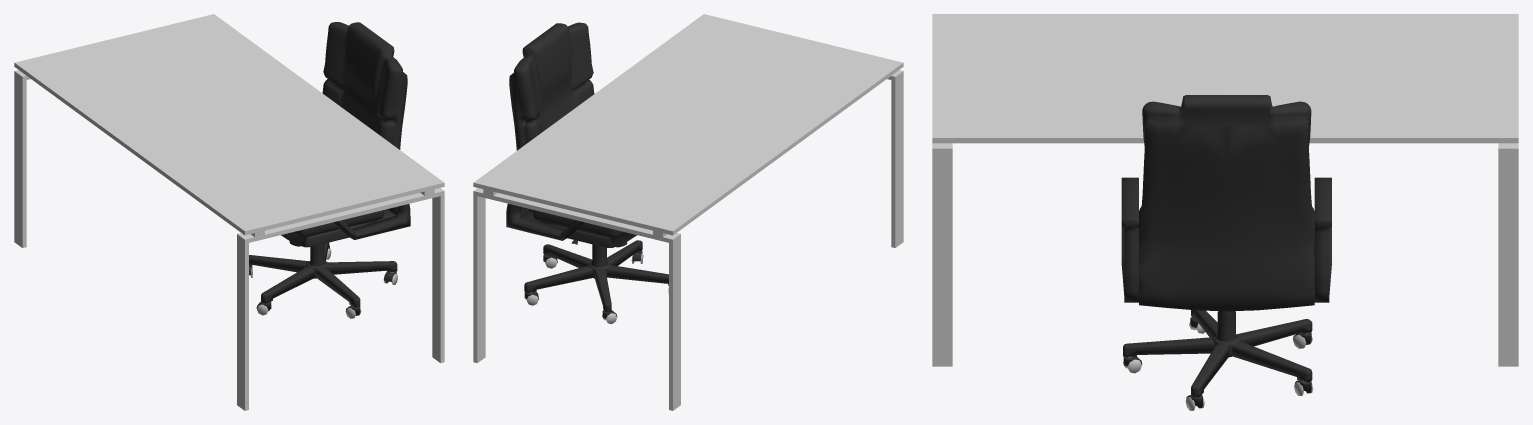
File: catedra.fbx
3 renders of one model, left to right at view 1: azimuth 30°, elevation 25°; view 2: azimuth 150°, elevation 25°; view 3: azimuth 270°, elevation 25°, orthographic. The views are drawn at different scales.
Parts seen in each view (by area): view 1: blat, picioare, ChairBack_LP, ChairSeat_LP4, pCube38, Leg_LP3, Leg_LP5, Leg_LP4, Leg_LP1, Underside_LP; view 2: blat, picioare, ChairBack_LP, ChairSeat_LP4, pCube37, Leg_LP2, Leg_LP5, Leg_LP3, Underside_LP, Leg_LP1, Leg_LP4; view 3: blat, ChairBack_LP, picioare, pCube37, pCube38, Leg_LP4, Leg_LP2, Leg_LP1, Leg_LP3, Underside_LP.
Part boxes in pixels (<box>): blat: <box>14,14,444,235</box>; picioare: <box>14,70,444,410</box>; ChairBack_LP: <box>322,22,407,214</box>; ChairSeat_LP4: <box>281,209,395,247</box>; pCube38: <box>333,204,410,239</box>; Leg_LP3: <box>327,261,397,274</box>; Leg_LP5: <box>261,267,314,303</box>; Leg_LP4: <box>316,267,360,307</box>; Leg_LP1: <box>249,255,308,272</box>; Underside_LP: <box>289,241,328,278</box>; blat: <box>473,14,903,235</box>; picioare: <box>473,70,903,410</box>; ChairBack_LP: <box>509,22,594,215</box>; ChairSeat_LP4: <box>521,209,636,247</box>; pCube37: <box>506,203,584,240</box>; Leg_LP2: <box>524,265,592,293</box>; Leg_LP5: <box>607,265,668,285</box>; Leg_LP3: <box>543,244,592,267</box>; Underside_LP: <box>571,240,627,278</box>; Leg_LP1: <box>594,269,611,312</box>; Leg_LP4: <box>607,240,642,265</box>; blat: <box>932,14,1518,143</box>; ChairBack_LP: <box>1138,95,1314,311</box>; picioare: <box>932,143,1518,366</box>; pCube37: <box>1314,177,1331,302</box>; pCube38: <box>1121,177,1138,302</box>; Leg_LP4: <box>1123,337,1214,357</box>; Leg_LP2: <box>1232,341,1312,382</box>; Leg_LP1: <box>1237,319,1312,346</box>; Leg_LP3: <box>1191,344,1228,397</box>; Underside_LP: <box>1212,311,1241,357</box>.
Size of the model in its own units: 128 by 116 by 200.
Materials: 1 (1 with a texture image).
